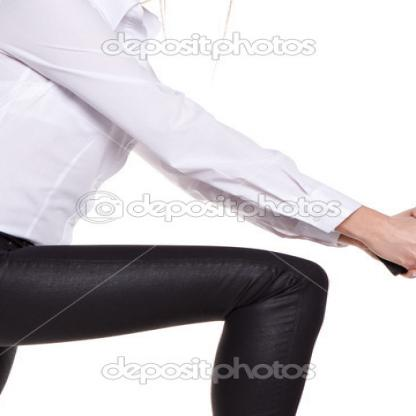gun: (372, 193, 415, 321)
